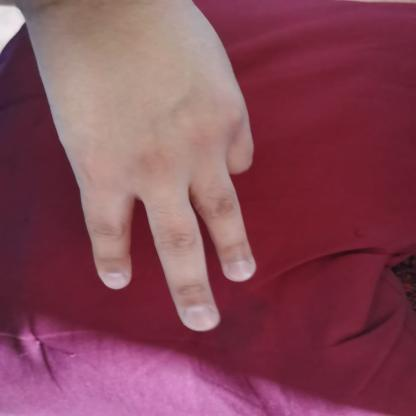M: (27, 20, 283, 344)
